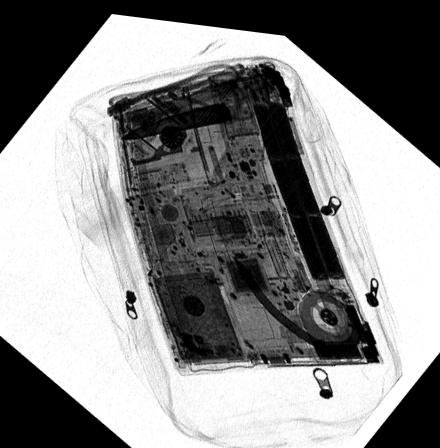Bullet: (119, 94, 234, 137)
